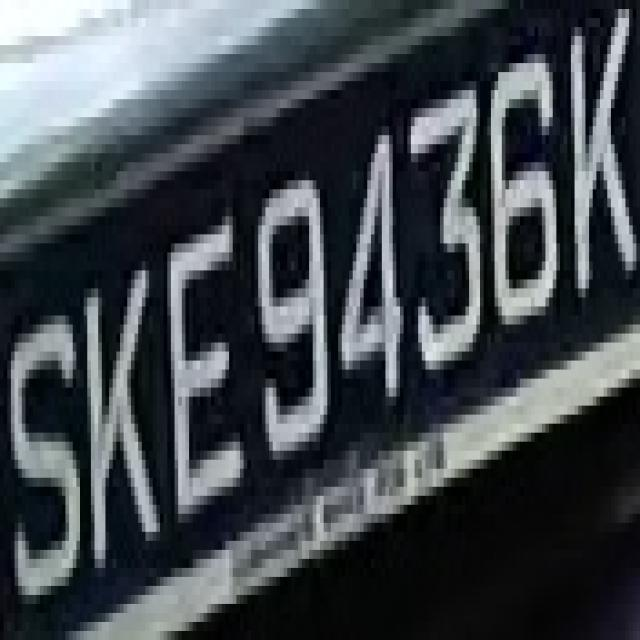3: (400, 90, 491, 379)
4: (324, 108, 418, 433)
6: (480, 45, 560, 352)
9: (254, 162, 334, 469)
E: (167, 198, 244, 541)
K: (80, 234, 160, 604), (560, 18, 636, 316)
S: (0, 288, 80, 613)
